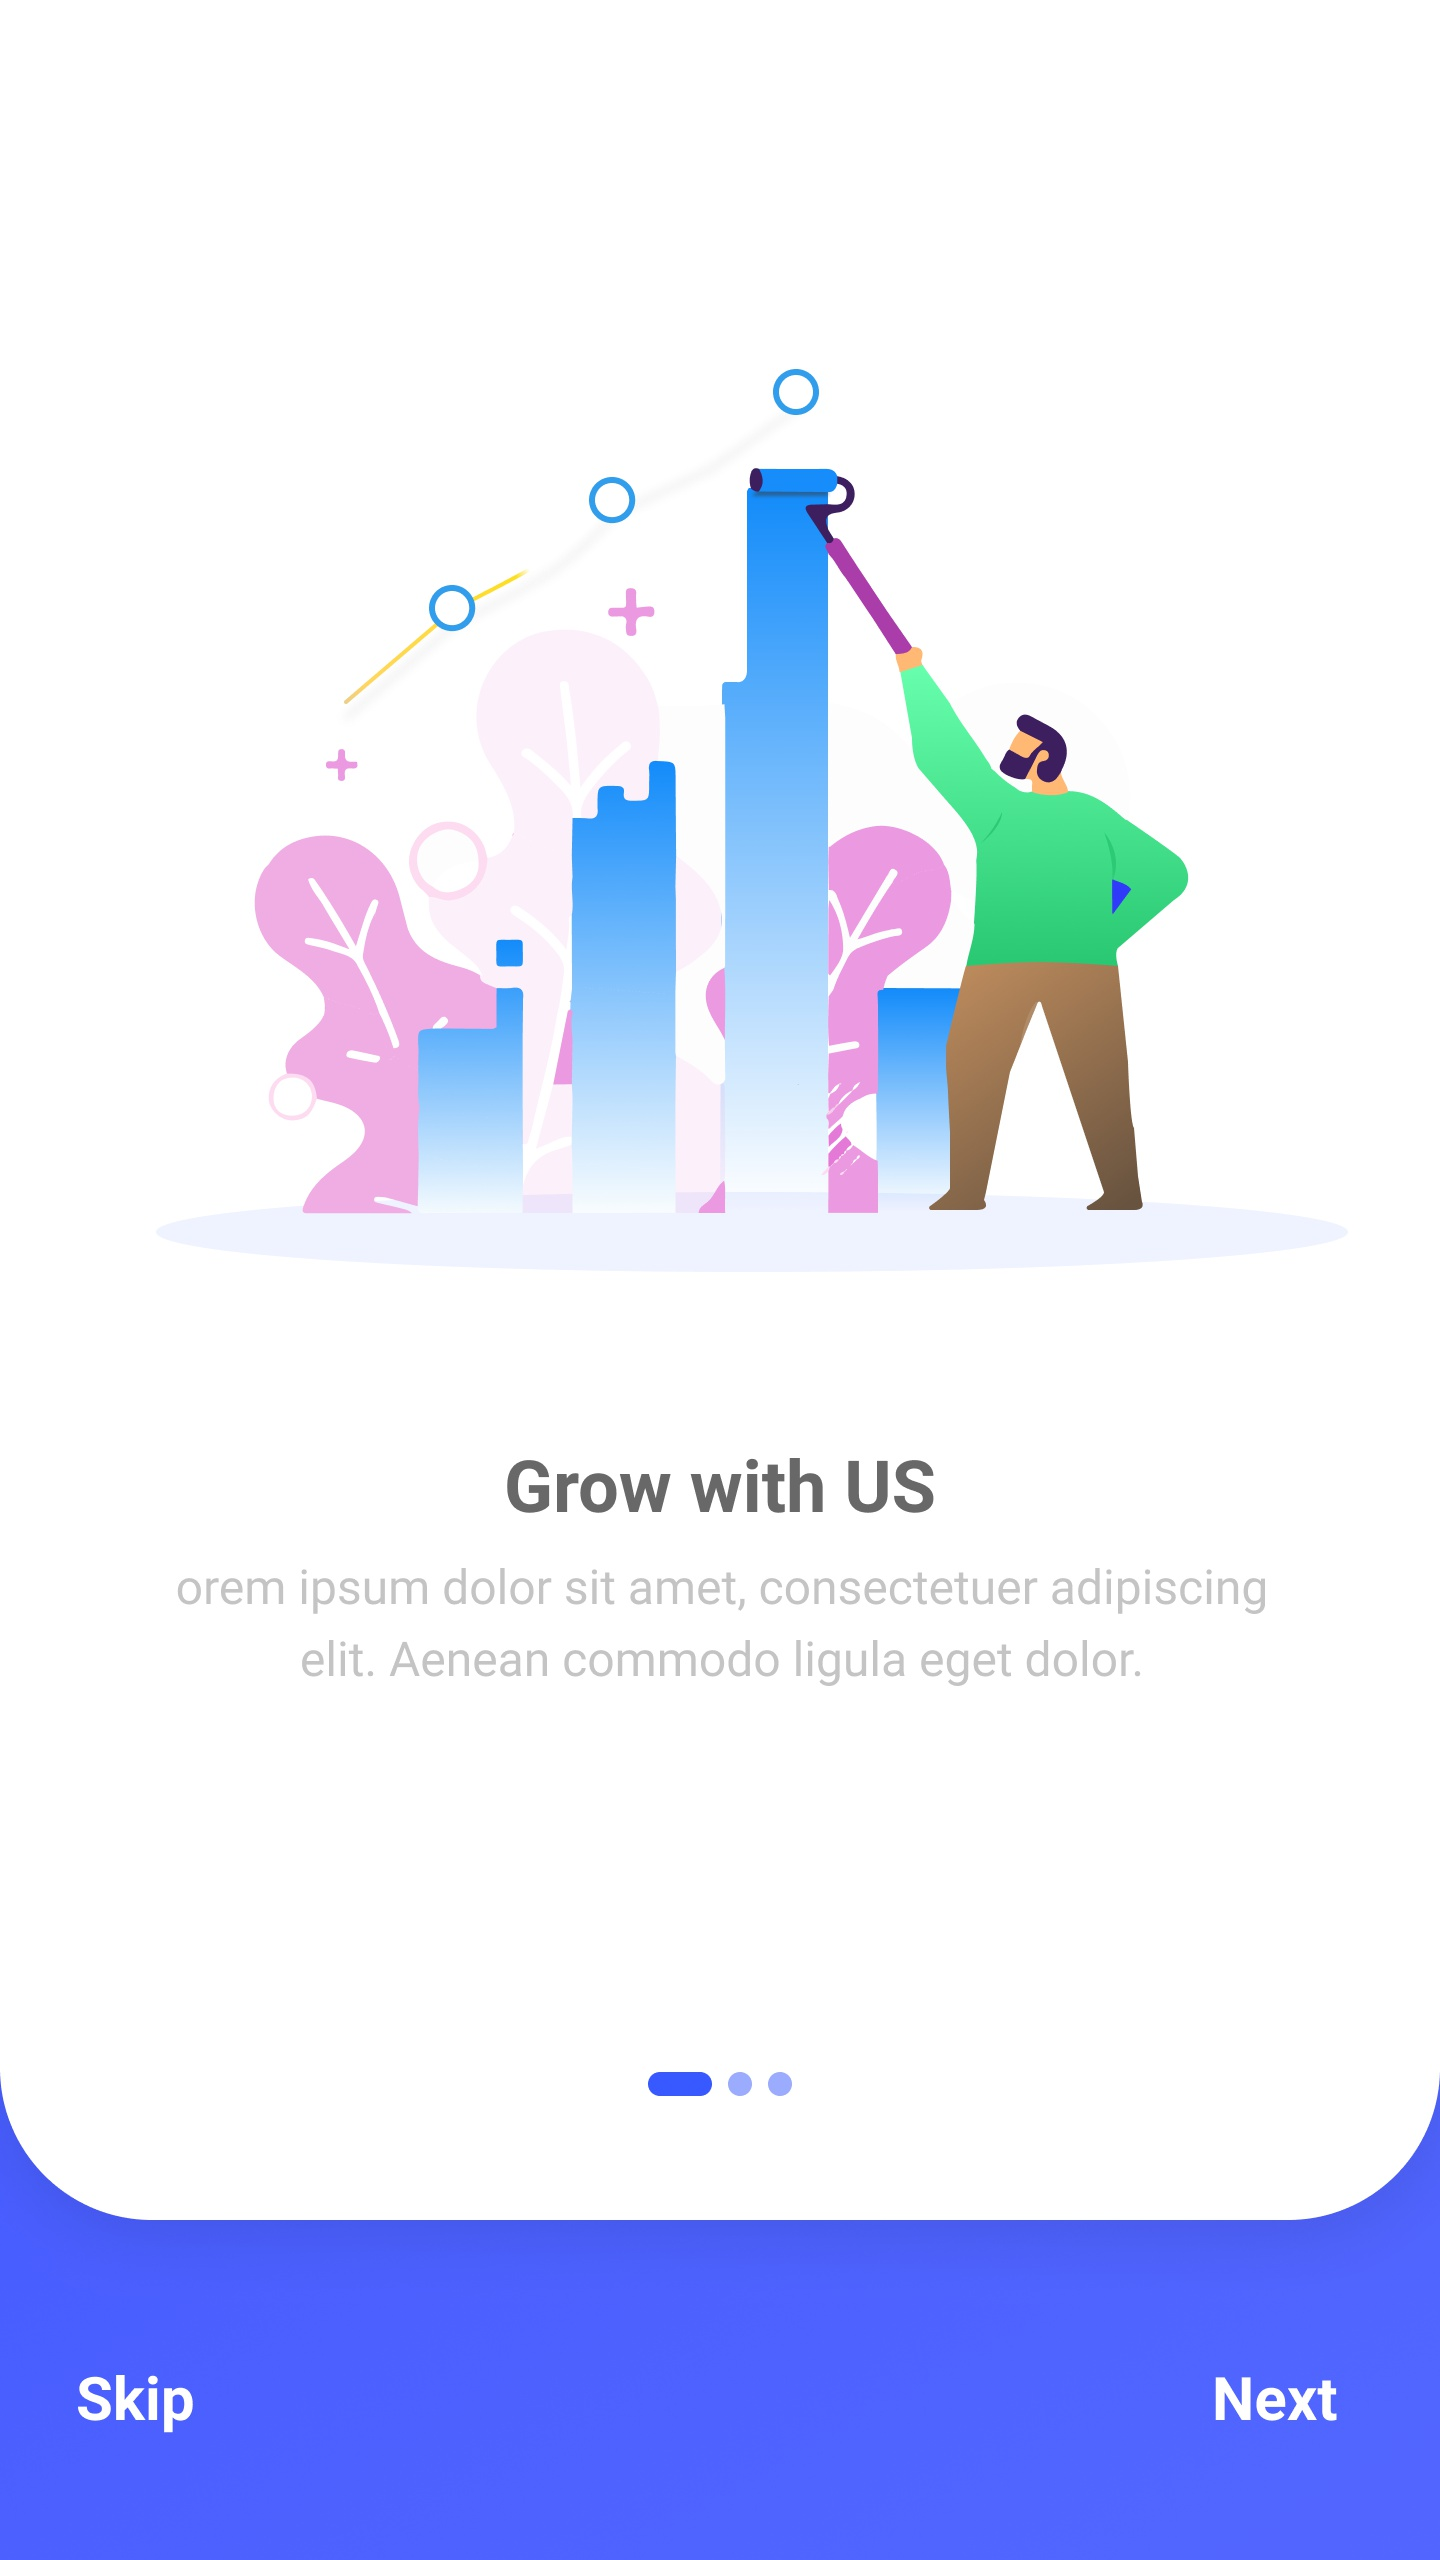Image: (155, 367, 1350, 1275)
PageIndicator: (647, 2071, 795, 2098)
Text: (178, 1567, 1268, 1688), (506, 1458, 935, 1516), (77, 2374, 195, 2433), (1213, 2375, 1338, 2423)
